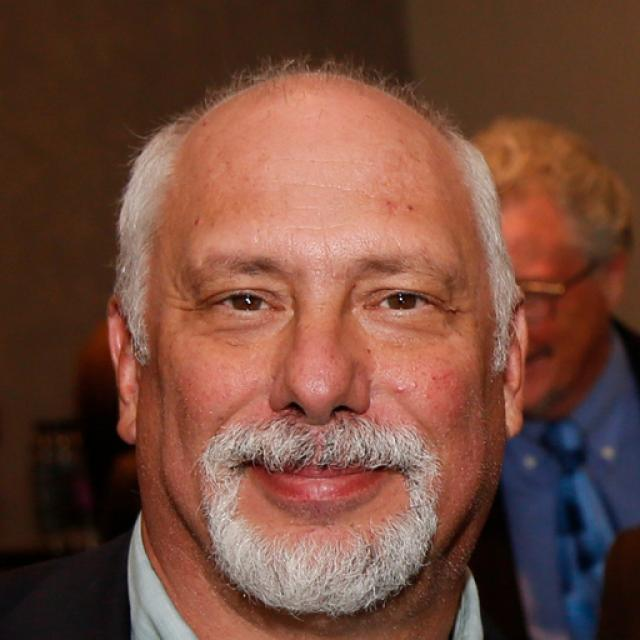Acne: (321, 263, 344, 284), (400, 200, 421, 218), (392, 380, 409, 402), (405, 379, 421, 395)
